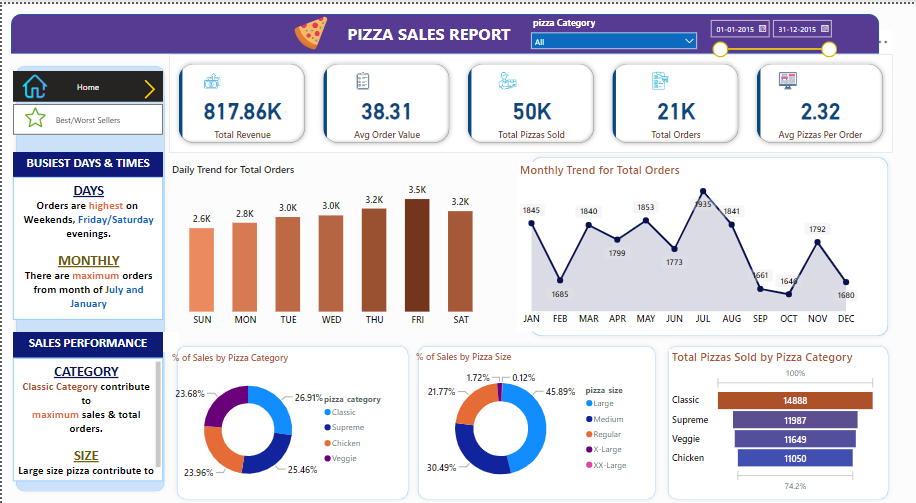

What the dashboard file says about the page in this screenshot:
{"tool":"powerbi","page":{"name":"Home","canvas":[1500,820],"ordinal":0},"visuals":[{"type":"shape","box":[14,94,260,714],"z":0},{"type":"cardVisual","fields":{"Data":["pizza_sales.Total Revenue","pizza_sales.Avg Order Value","pizza_sales.Total Pizzas Sold","pizza_sales.Total Orders","pizza_sales.Avg Pizzas Per Order"]},"box":[274,82,1188,162],"z":1000},{"type":"textbox","box":[259.2,537.1,30.2,33.1],"z":2000},{"type":"shape","box":[14.3,15.9,1423.8,65.1],"z":3000},{"type":"textbox","box":[556,24,288,50],"z":4000},{"type":"columnChart","title":" Daily Trend for Total Orders","fields":{"Category":["pizza_sales.Order Day"],"Y":["pizza_sales.Total Orders"]},"box":[274.6,260.3,533.3,277.8],"z":5000},{"type":"shape","box":[860,242,602,310],"z":6000},{"type":"areaChart","title":"Monthly Trend for Total Orders","fields":{"Category":["pizza_sales.Order Month"],"Y":["pizza_sales.Total Orders"]},"box":[844.4,258.7,563.5,277.8],"z":7000},{"type":"shape","box":[278,552,396,268],"z":8000},{"type":"shape","box":[674,552,406,268],"z":9000},{"type":"shape","box":[1084,552,378,268],"z":10000},{"type":"textbox","box":[18,242,246,42],"z":11000},{"type":"donutChart","title":"% of Sales by Pizza Category","fields":{"Category":["pizza_sales.pizza_category"],"Y":["pizza_sales.Total Revenue"]},"box":[274.6,569.8,368.3,238.1],"z":12000},{"type":"donutChart","title":"% of Sales by Pizza Size","fields":{"Y":["pizza_sales.Total Revenue"],"Category":["pizza_sales.pizza_size"]},"box":[674,568,368,238],"z":13000},{"type":"funnel","title":"Total Pizzas Sold by Pizza Category","fields":{"Category":["pizza_sales.pizza_category"],"Y":["pizza_sales.Total Pizzas Sold"]},"box":[1094,566,344,238],"z":14000},{"type":"textbox","box":[18,284,246,234],"z":15000},{"type":"textbox","box":[18,538,246,42],"z":16000},{"type":"textbox","box":[18,580,246,202],"z":17000},{"type":"slicer","fields":{"Values":["pizza_sales.pizza_category"]},"box":[858,14,292,66],"z":18000},{"type":"slicer","fields":{"Values":["pizza_sales.order_date"]},"box":[1150,16,228,94],"z":19000},{"type":"pageNavigator","box":[18,110,246,50],"z":20000},{"type":"pageNavigator","box":[18,164,246,50],"z":21000},{"type":"image","box":[222,114,42,50],"z":22000},{"type":"image","box":[458,14,98,66],"z":23000},{"type":"image","box":[18,110,72,50],"z":24000},{"type":"image","box":[32,160,44,50],"z":25000}]}

Visuals, with their boxes in screenshot pixels (x1, y1, x2, y2), scaled from the page's 1500x820 canvas onto the 916x503 screenshot:
shape: (9, 58, 167, 496)
cardVisual - pizza_sales.Total Revenue x pizza_sales.Avg Order Value: (167, 50, 893, 150)
textbox: (158, 329, 177, 350)
shape: (9, 10, 878, 50)
textbox: (340, 15, 515, 45)
" Daily Trend for Total Orders" columnChart: (168, 160, 493, 330)
shape: (525, 148, 893, 339)
"Monthly Trend for Total Orders" areaChart: (516, 159, 860, 329)
shape: (170, 339, 412, 502)
shape: (412, 339, 660, 502)
shape: (662, 339, 893, 502)
textbox: (11, 148, 161, 174)
"% of Sales by Pizza Category" donutChart: (168, 350, 393, 496)
"% of Sales by Pizza Size" donutChart: (412, 348, 636, 494)
"Total Pizzas Sold by Pizza Category" funnel: (668, 347, 878, 493)
textbox: (11, 174, 161, 318)
textbox: (11, 330, 161, 356)
textbox: (11, 356, 161, 480)
slicer - pizza_sales.pizza_category: (524, 9, 702, 49)
slicer - pizza_sales.order_date: (702, 10, 841, 67)
pageNavigator: (11, 67, 161, 98)
pageNavigator: (11, 101, 161, 131)
image: (136, 70, 161, 101)
image: (280, 9, 340, 49)
image: (11, 67, 55, 98)
image: (20, 98, 46, 129)
